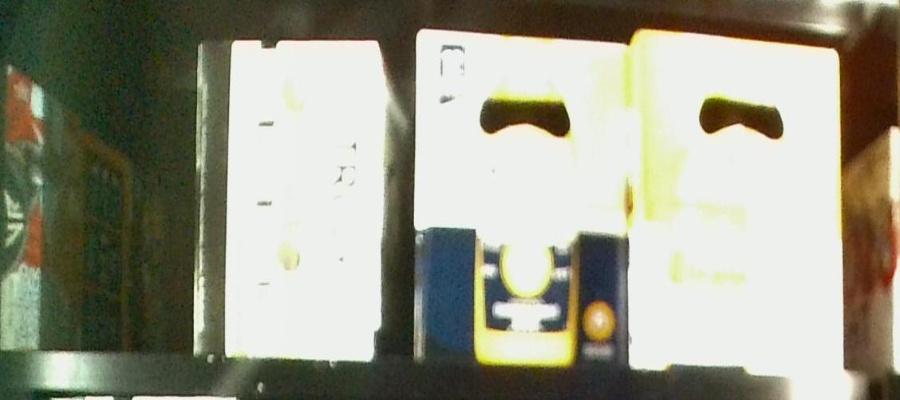bottle: (412, 33, 631, 367), (634, 28, 843, 363), (198, 39, 398, 366)
